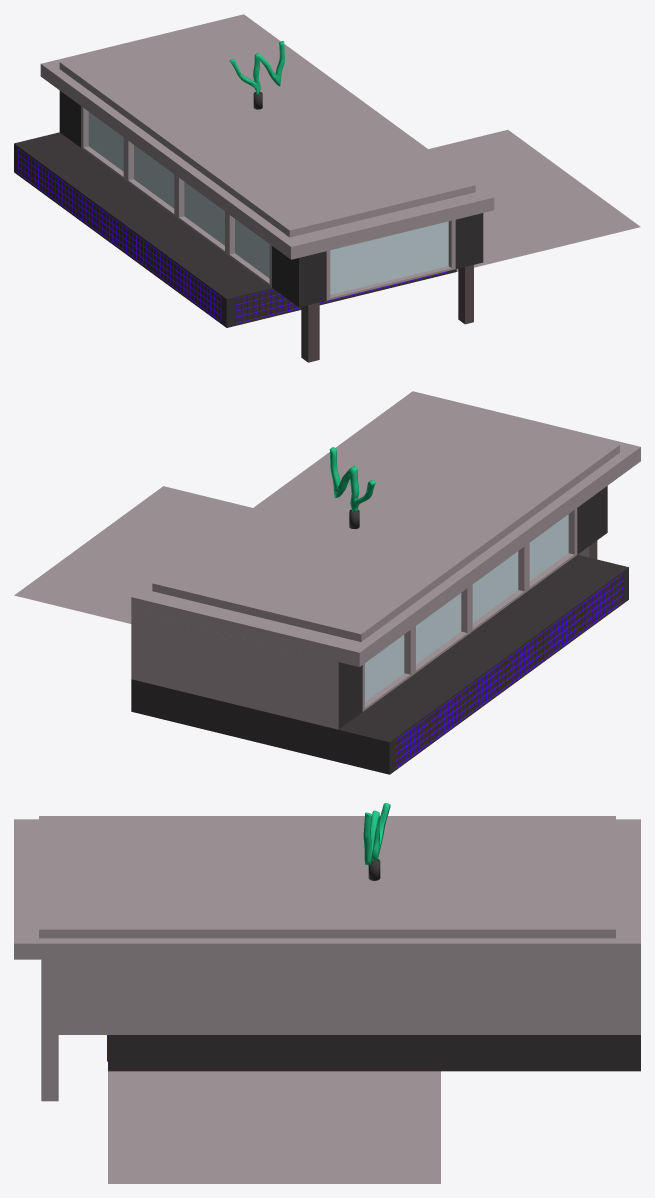
Rendered from roofStore (2).fbx.
The picture shows the model from 3 angles, top to bottom: view 1: azimuth 30°, elevation 25°; view 2: azimuth 150°, elevation 25°; view 3: azimuth 270°, elevation 25°; orthographic projection. The views are drawn at different scales.
Parts seen in each view (by area): view 1: roofStore; view 2: roofStore; view 3: roofStore.
Boxes of the visible parts, left/top/right/bottom form: roofStore: left=14, top=14, right=640, bottom=362; roofStore: left=14, top=391, right=640, bottom=774; roofStore: left=14, top=803, right=640, bottom=1183.
Size of the model in its own units: 450 by 208 by 471.
